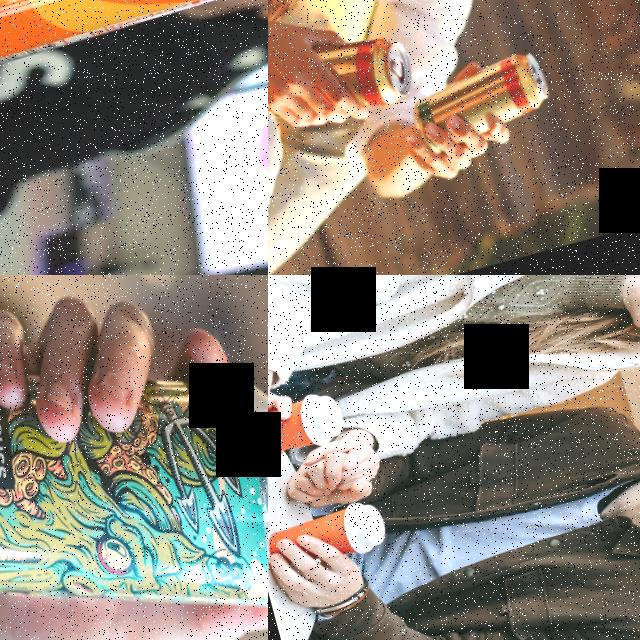can: (0, 285, 268, 640), (0, 0, 268, 89), (398, 47, 558, 154), (293, 26, 419, 128)
cup: (268, 496, 391, 578), (268, 386, 348, 469)
